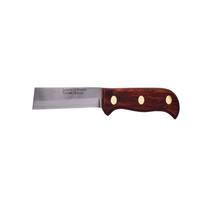knife: (25, 83, 184, 123)
